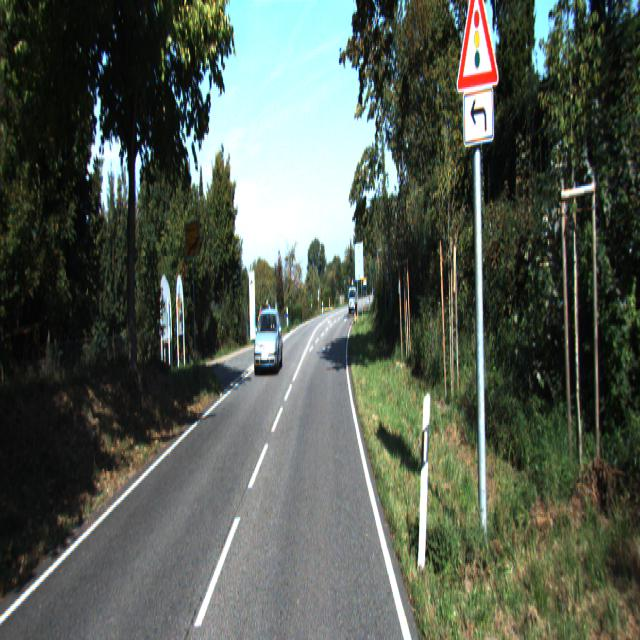Car: (252, 308, 284, 376)
